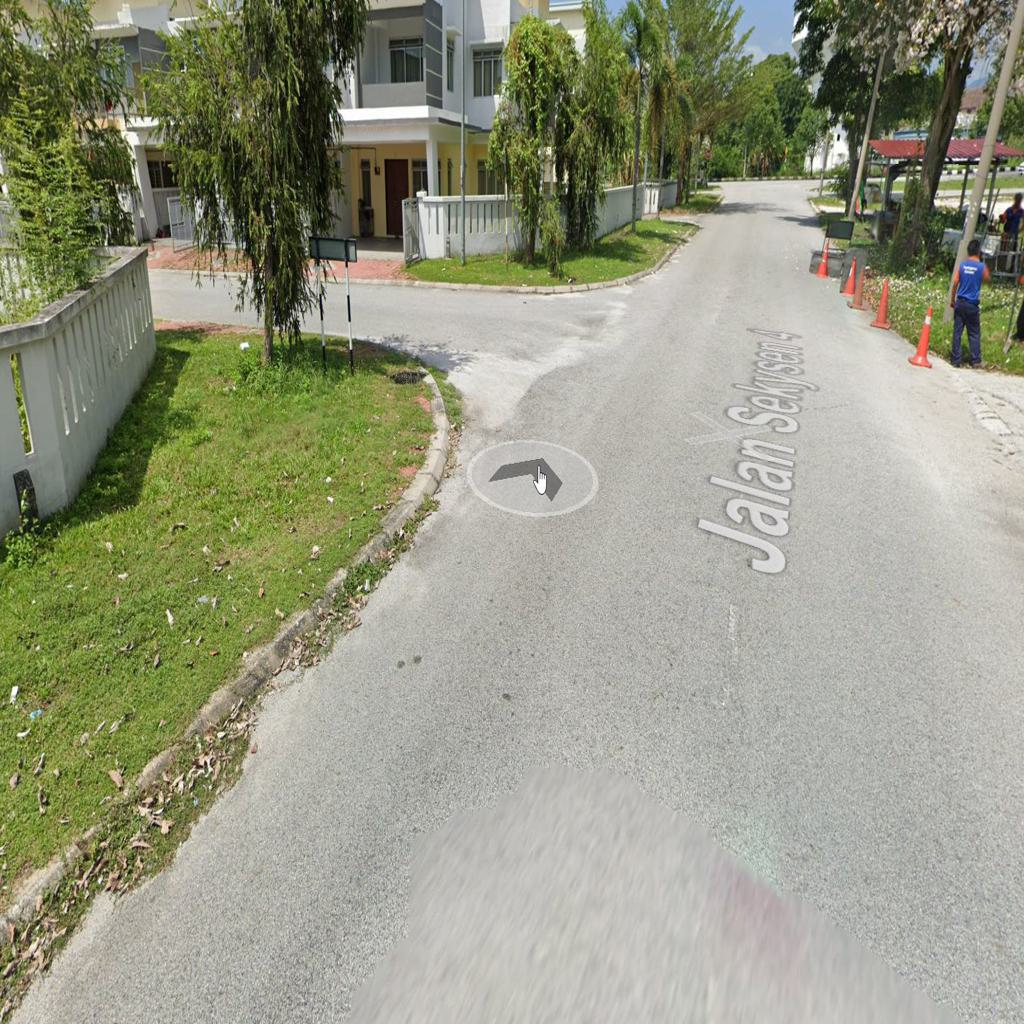Junction: (295, 228, 674, 495)
